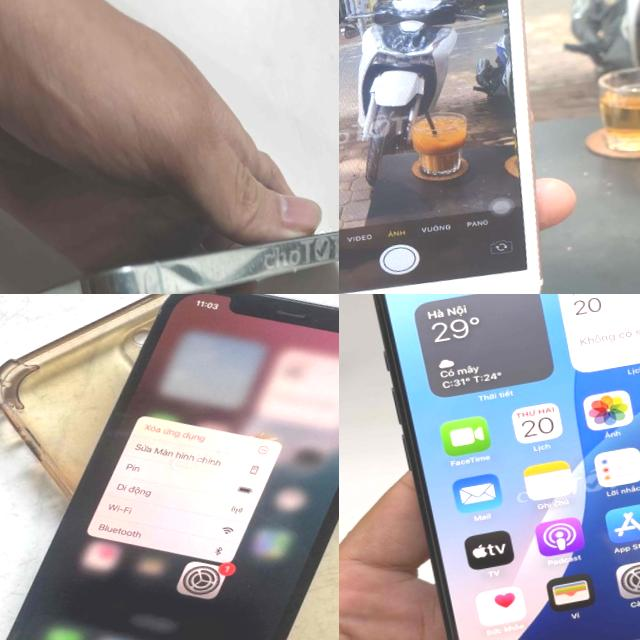scratch: (242, 201, 339, 285)
